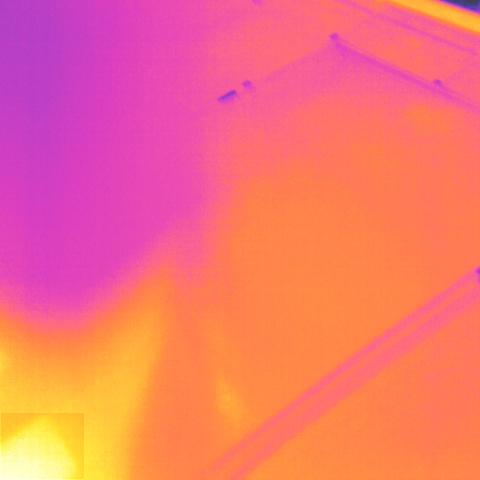fault: (1, 413, 84, 479)
